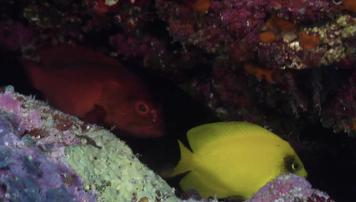Serranidae -Groupers-: (15, 38, 168, 141)
